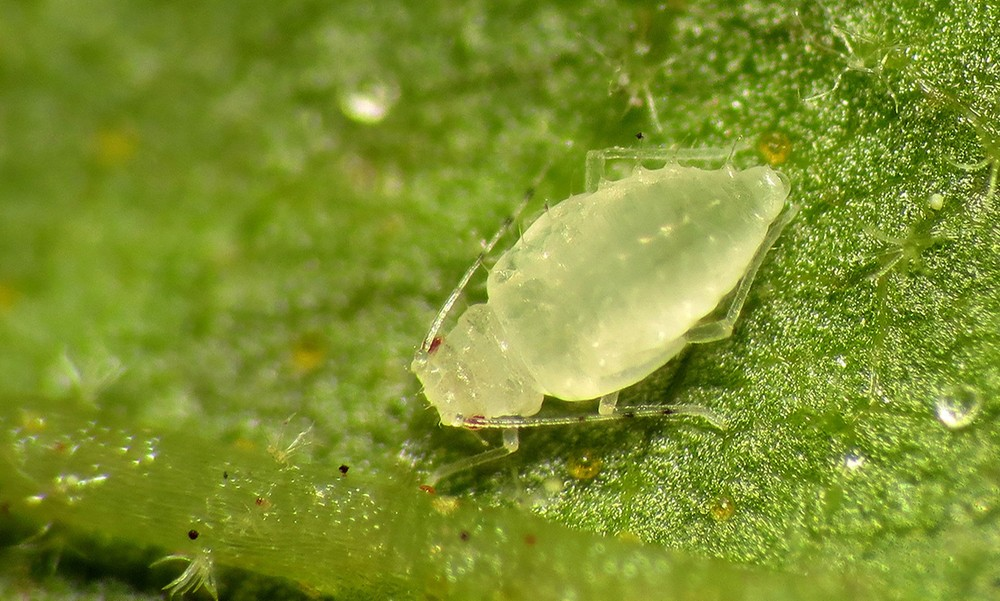Pulgon: (382, 137, 838, 495)
